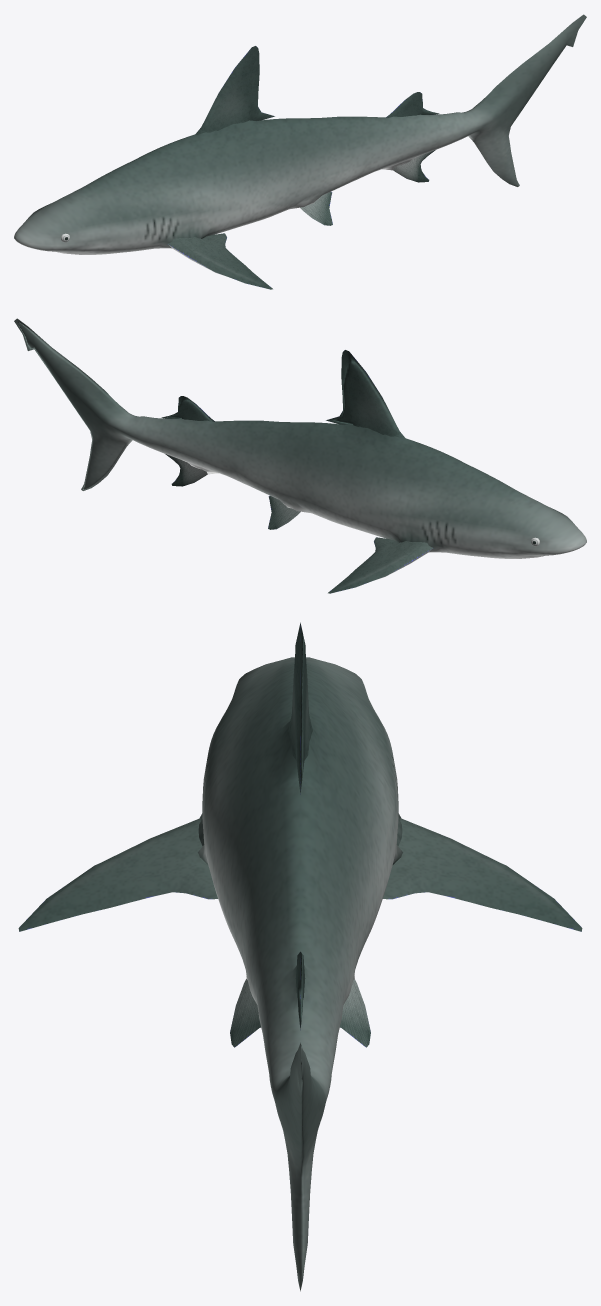
Rendered from shark.obj.
The picture shows the model from 3 angles, top to bottom: view 1: azimuth 30°, elevation 25°; view 2: azimuth 150°, elevation 25°; view 3: azimuth 270°, elevation 25°; orthographic projection. The views are drawn at different scales.
Visible parts, largest first — view 1: object, object2, object6, object8, object3, object10; view 2: object, object2, object7, object9, object3, object11; view 3: object, object6, object7, object2, object9, object8.
Boxes of the visible parts, x1,y1,x2,y2 form: object: (14, 14, 586, 254); object2: (195, 46, 274, 134); object6: (168, 233, 272, 289); object8: (300, 192, 332, 225); object3: (386, 92, 439, 117); object10: (393, 150, 435, 182); object: (14, 318, 586, 558); object2: (326, 350, 405, 438); object7: (328, 537, 432, 593); object9: (268, 496, 300, 529); object3: (161, 396, 214, 421); object11: (165, 454, 207, 486); object: (198, 657, 402, 1291); object6: (18, 818, 217, 931); object7: (383, 818, 582, 931); object2: (288, 622, 312, 794); object9: (340, 979, 370, 1047); object8: (230, 979, 260, 1047).
Bounding box in the file's own units: 40 × 13.76 × 17.1.
1 material, 1 textured.
